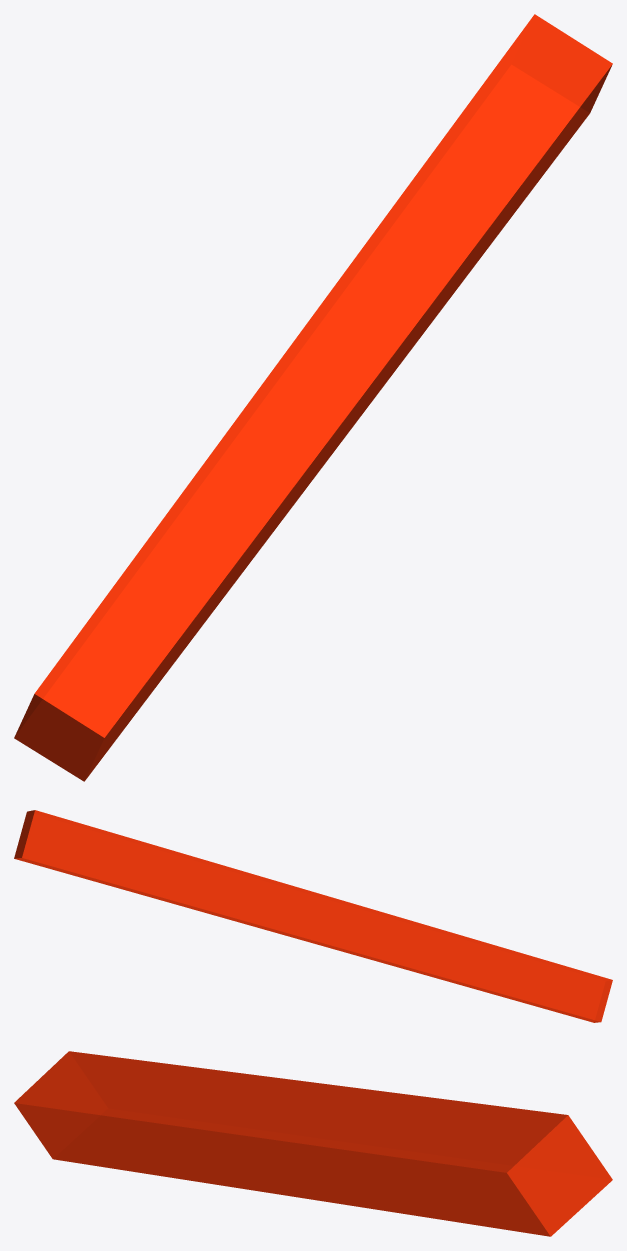
File: Event_421115418_EBrechit_51.fbx
3 renders of one model, top to bottom at view 1: azimuth 30°, elevation 25°; view 2: azimuth 150°, elevation 25°; view 3: azimuth 270°, elevation 25°, orthographic. The views are drawn at different scales.
Visible parts, largest first — view 1: Model; view 2: Model; view 3: Model.
Boxes of the visible parts, box(x1,y1,x2,y2) form: Model: box(14, 14, 612, 781); Model: box(14, 810, 612, 1022); Model: box(14, 1051, 612, 1236).
Bounding box in the file's own units: 0.6765 × 0.3179 × 0.4524.
